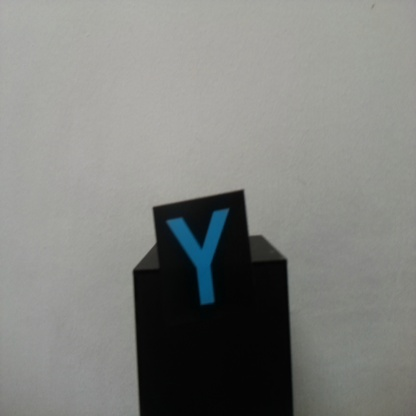id_14: (153, 204, 252, 321)
